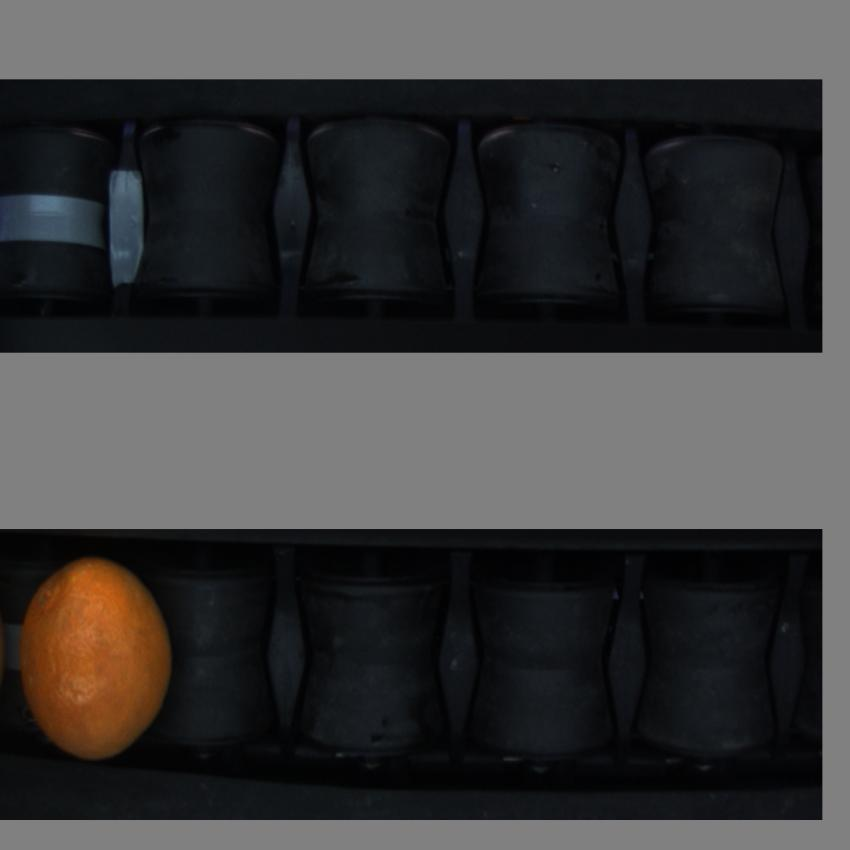Mal estado: (16, 558, 178, 760)
